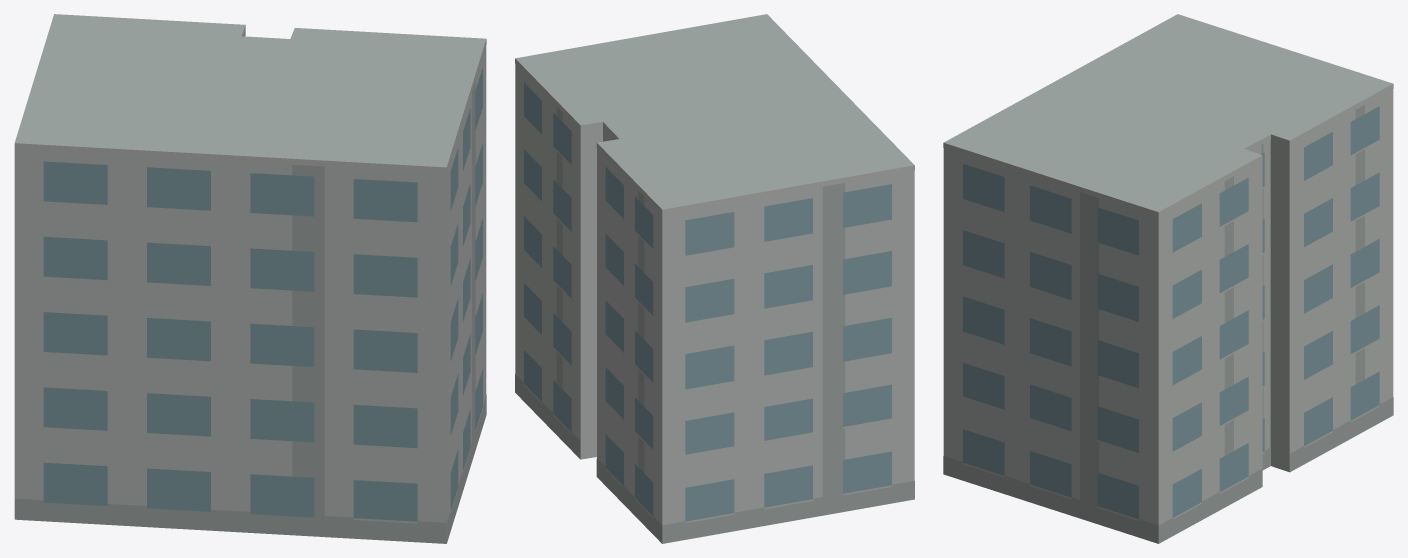
File: survey-upis-32627425.glb
3 renders of one model, left to right at view 1: azimuth 30°, elevation 25°; view 2: azimuth 150°, elevation 25°; view 3: azimuth 270°, elevation 25°, orthographic. The views are drawn at different scales.
Visible parts, largest first — view 1: survey-upis-32627425.tmp; view 2: survey-upis-32627425.tmp; view 3: survey-upis-32627425.tmp.
Boxes of the visible parts, box(x1,y1,x2,y2) form: survey-upis-32627425.tmp: box(14, 14, 486, 543); survey-upis-32627425.tmp: box(515, 14, 914, 543); survey-upis-32627425.tmp: box(943, 14, 1393, 543).
Bounding box in the file's own units: 19.55 × 15.25 × 18.76.
